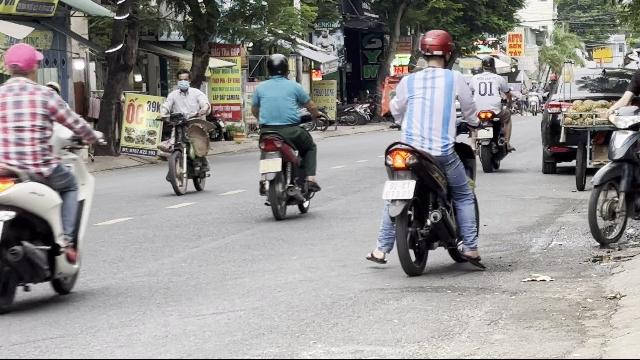helmet: (414, 28, 456, 68), (265, 52, 289, 78), (480, 56, 496, 72)
licenseplate: (382, 180, 416, 200), (259, 159, 281, 174), (476, 128, 492, 138)
motorcyclist: (372, 29, 488, 275), (0, 40, 100, 314), (250, 52, 322, 219), (154, 68, 213, 195), (467, 54, 515, 172)
nohelmet: (1, 42, 43, 80), (174, 68, 192, 90)
